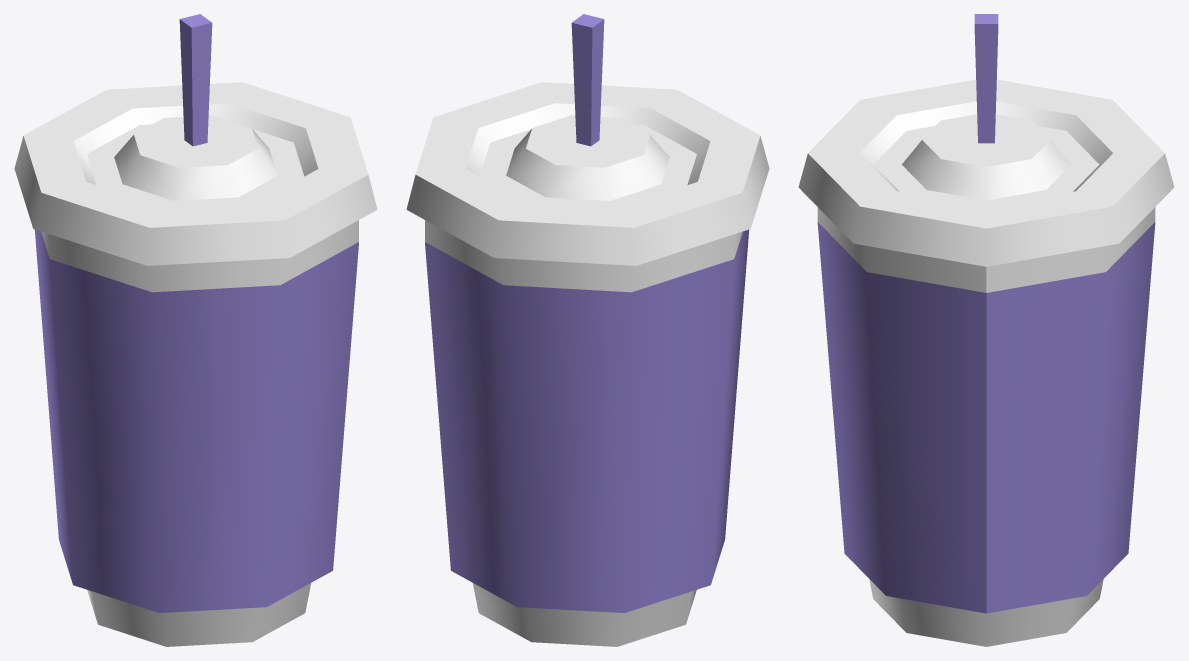
The model's file is Soda.glb.
3 views of the same model, side by side, from view 1: azimuth 30°, elevation 25°; view 2: azimuth 150°, elevation 25°; view 3: azimuth 270°, elevation 25° (orthographic).
Visible parts, largest first — view 1: Soda; view 2: Soda; view 3: Soda.
Part boxes in pixels (<box>): Soda: <box>14,14,377,646</box>; Soda: <box>406,14,769,646</box>; Soda: <box>798,14,1174,646</box>.
Size of the model in its own units: 0.1118 by 0.1903 by 0.1118.
